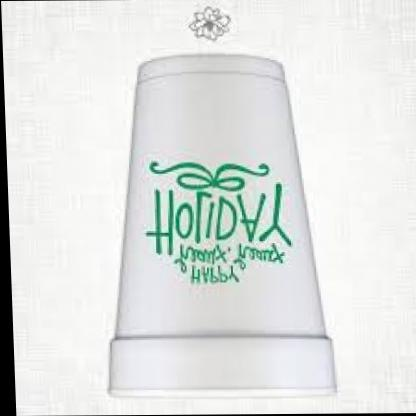trash: (110, 55, 335, 393)
